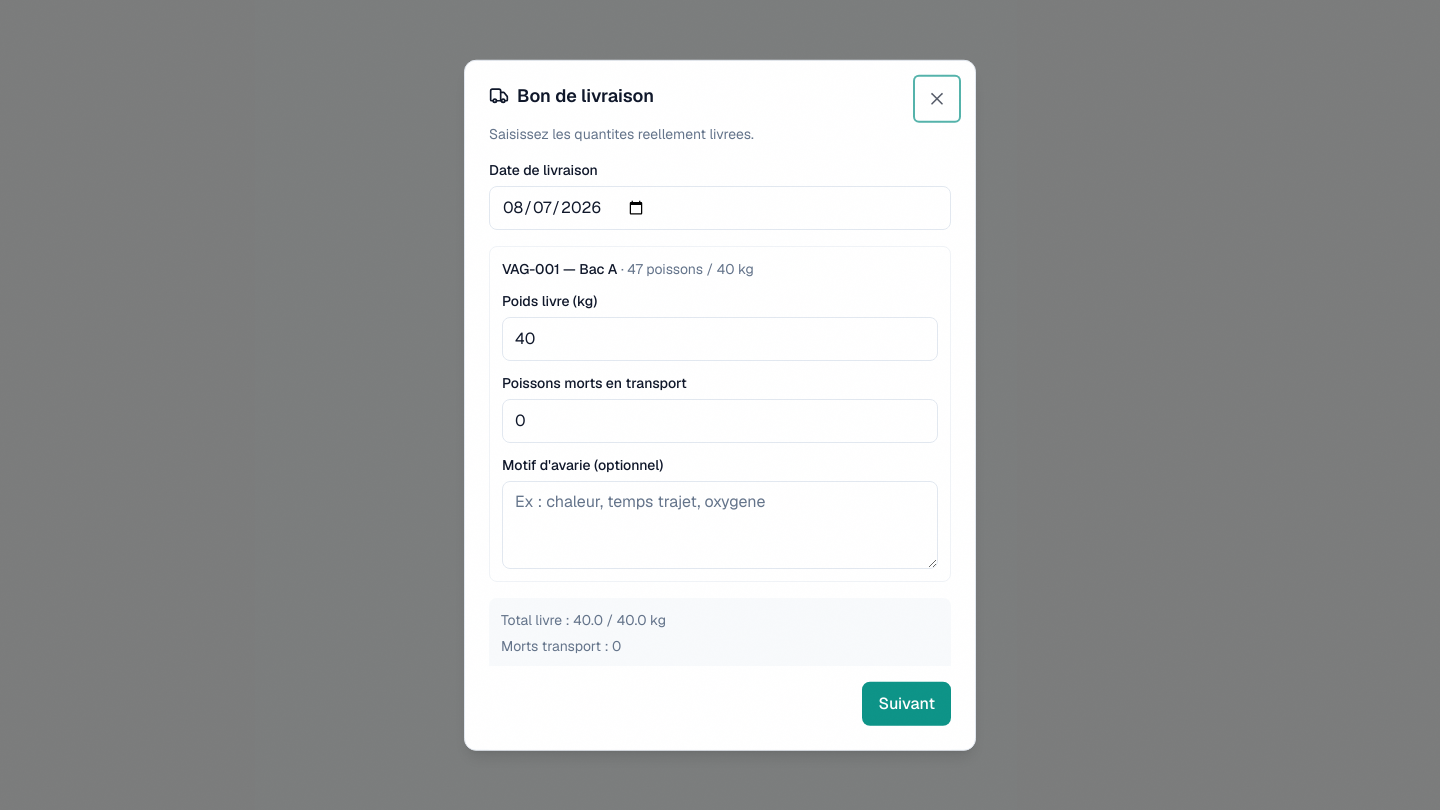
it: BonLivraisonFlow — Etape quantites › affiche le recap avec le poids reellement livre (pas le poids commande)
Replace the text in the number field labelled "Poids livre (kg)" with "35" at (720, 338), box [502,316,938,360]
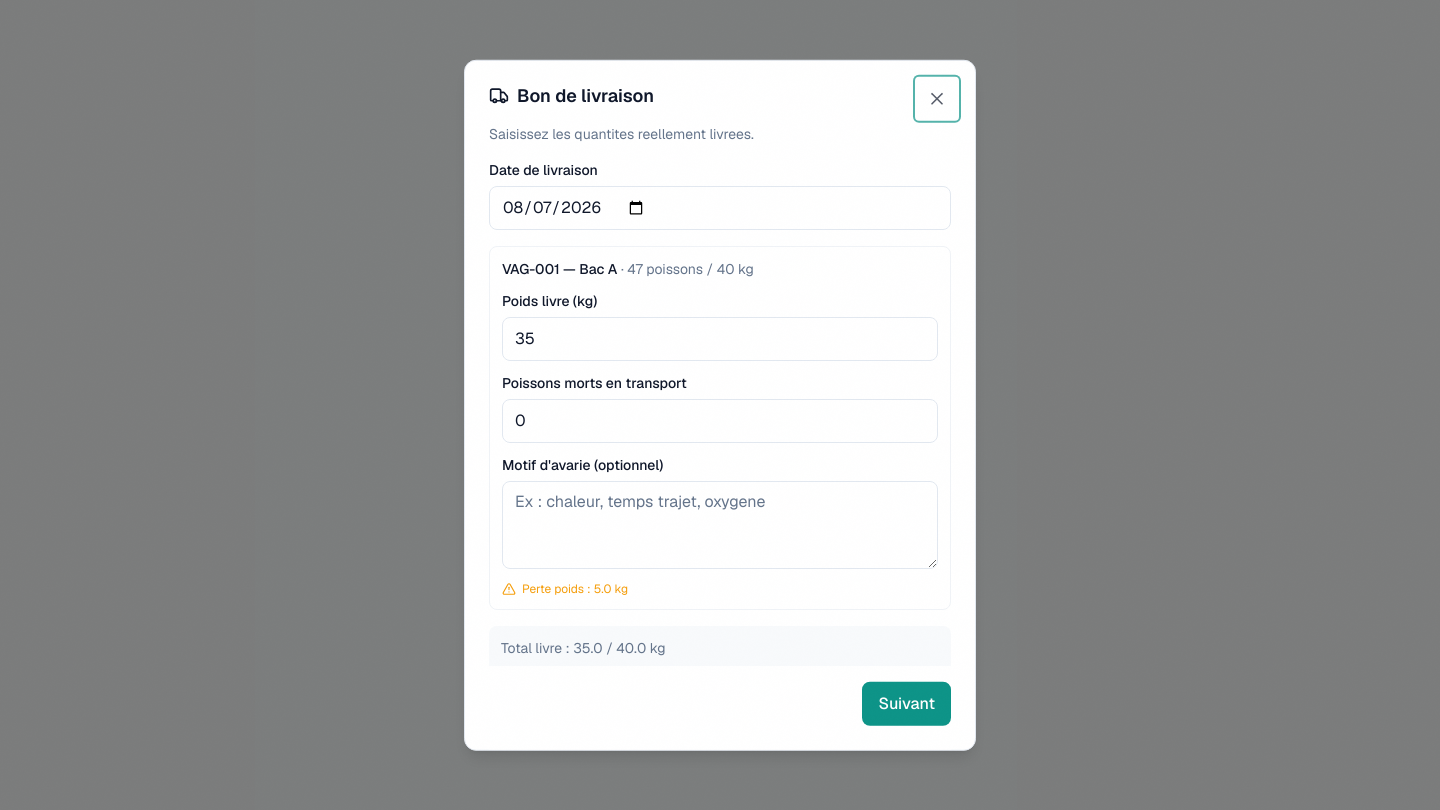
Click the button "Suivant" at (907, 703), box [862,681,951,725]
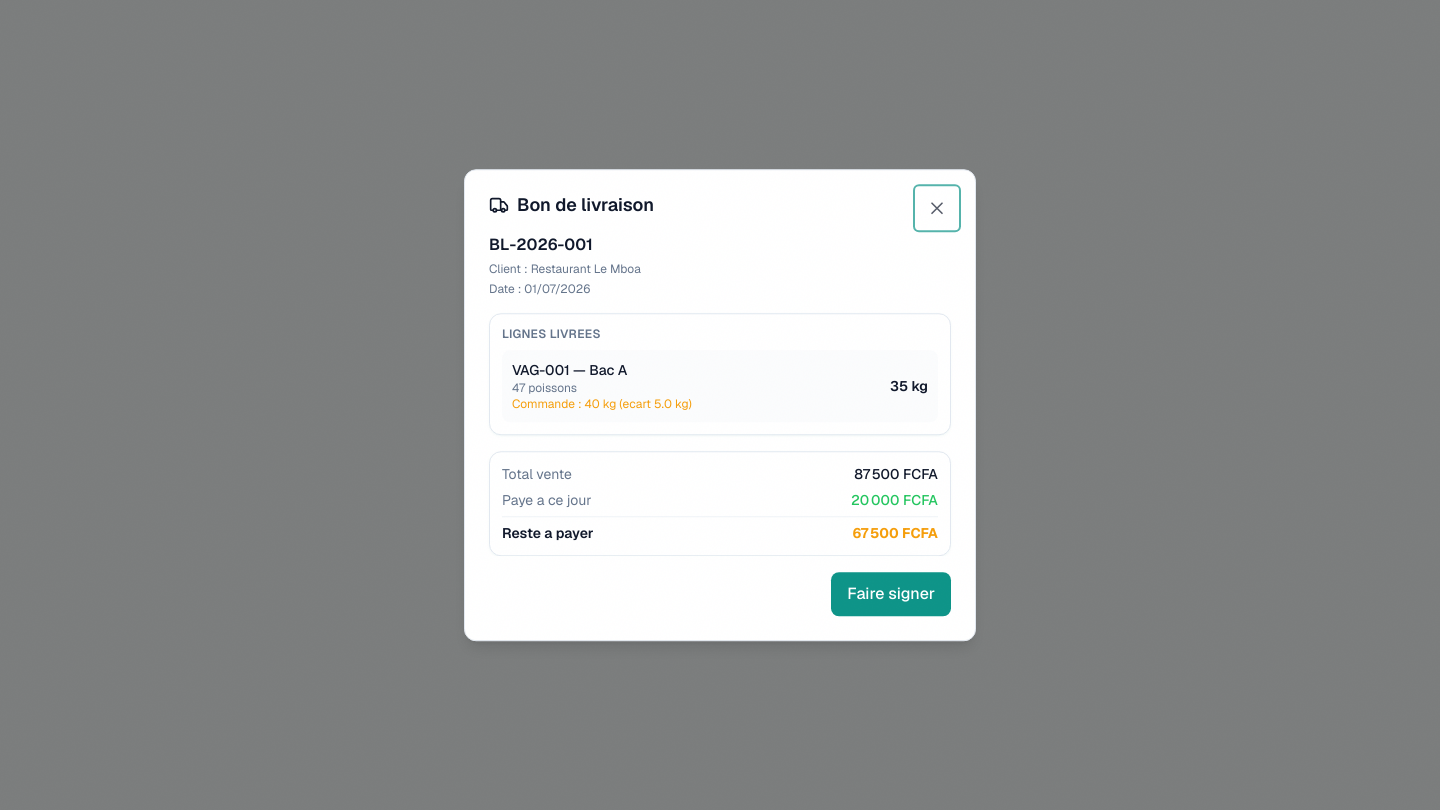
Now the text "35 kg" is shown, box [890,376,928,396]
